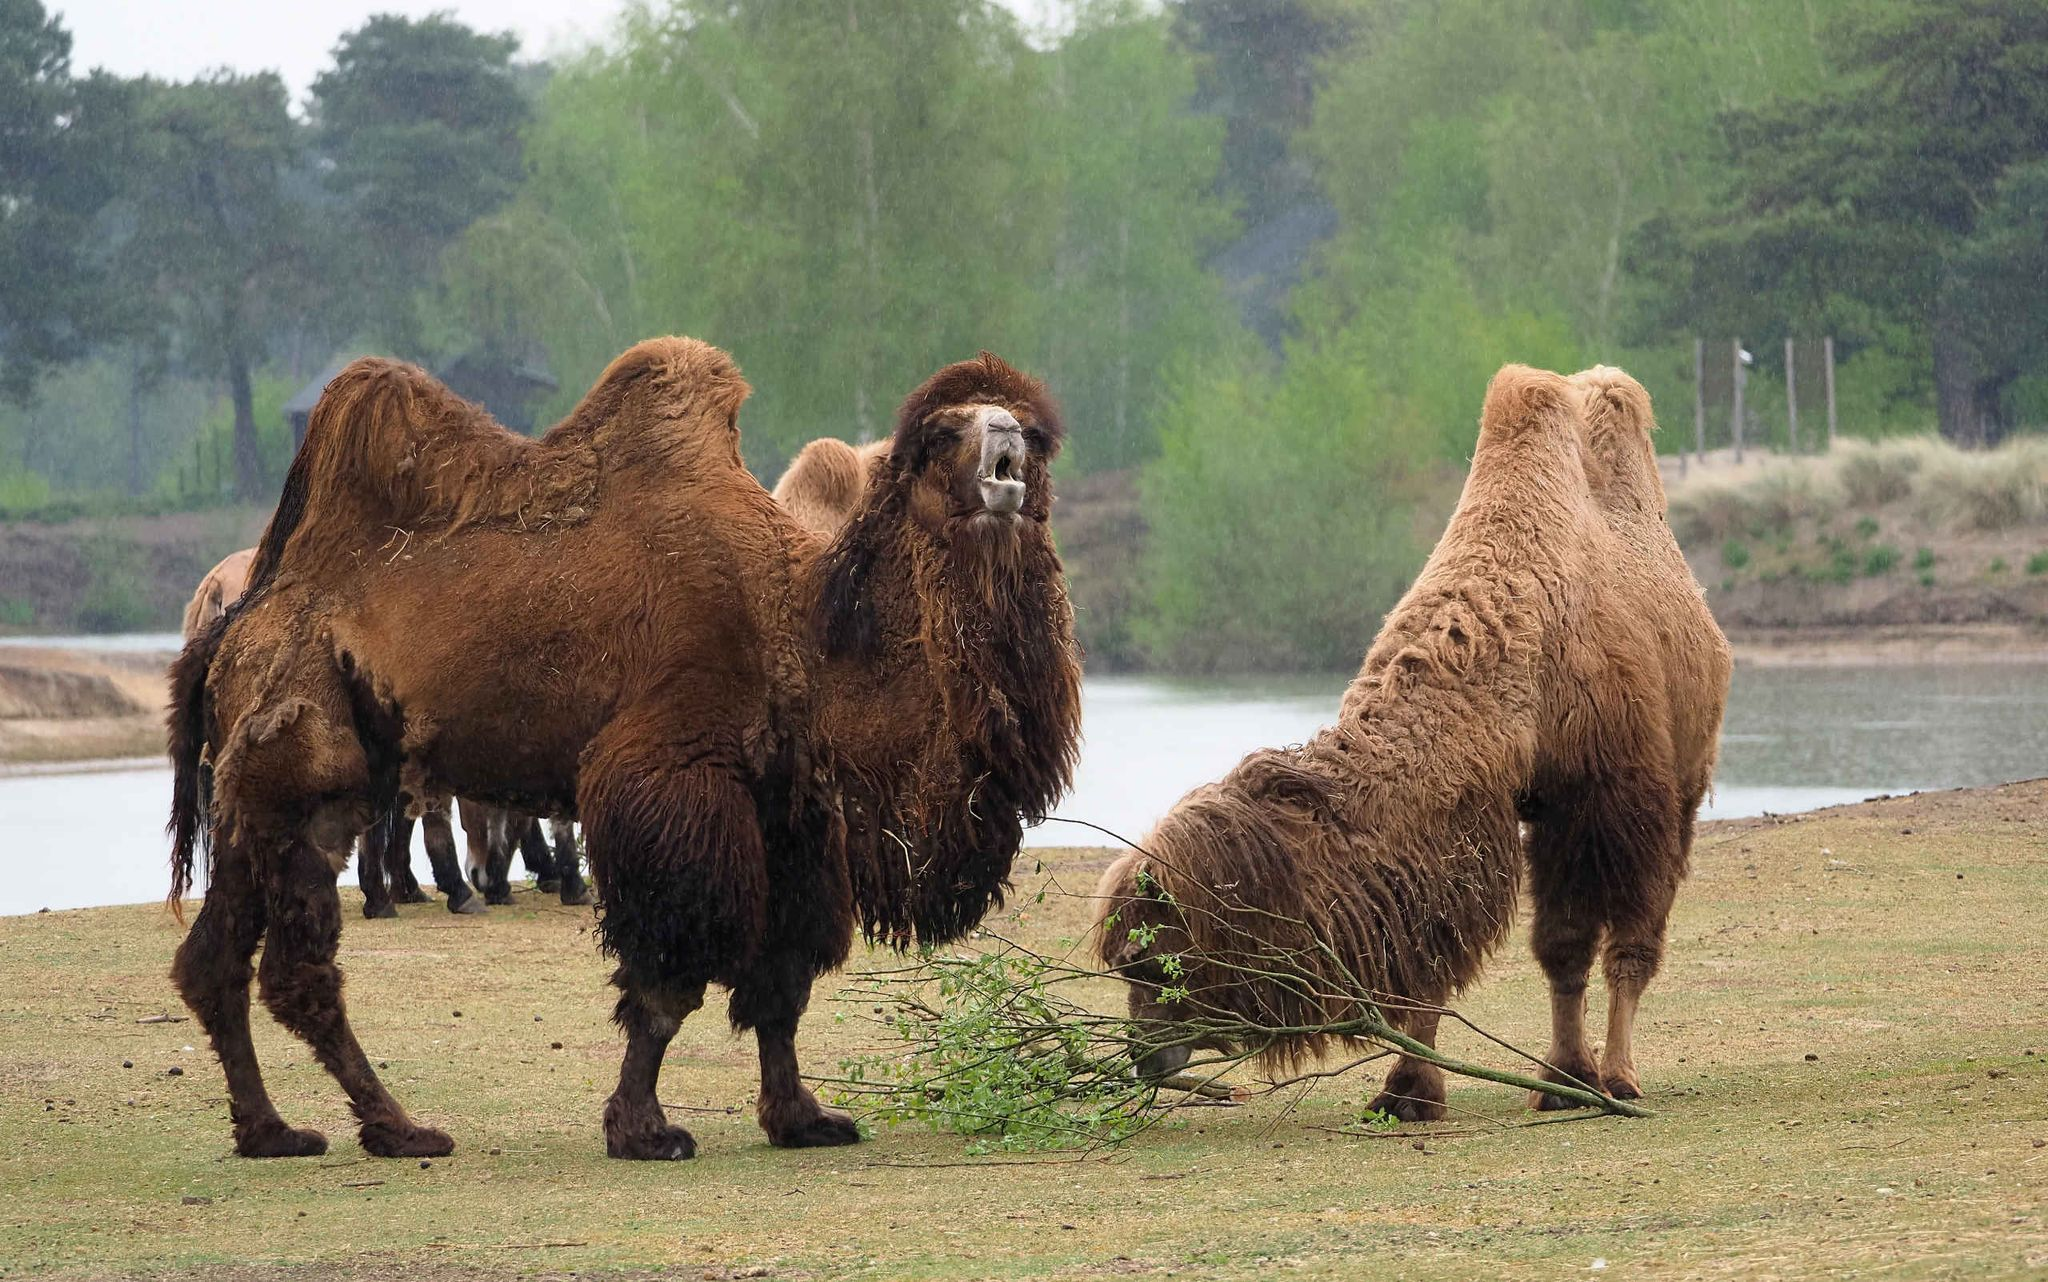camel: (154, 340, 1082, 1131), (1156, 357, 1707, 1139)
